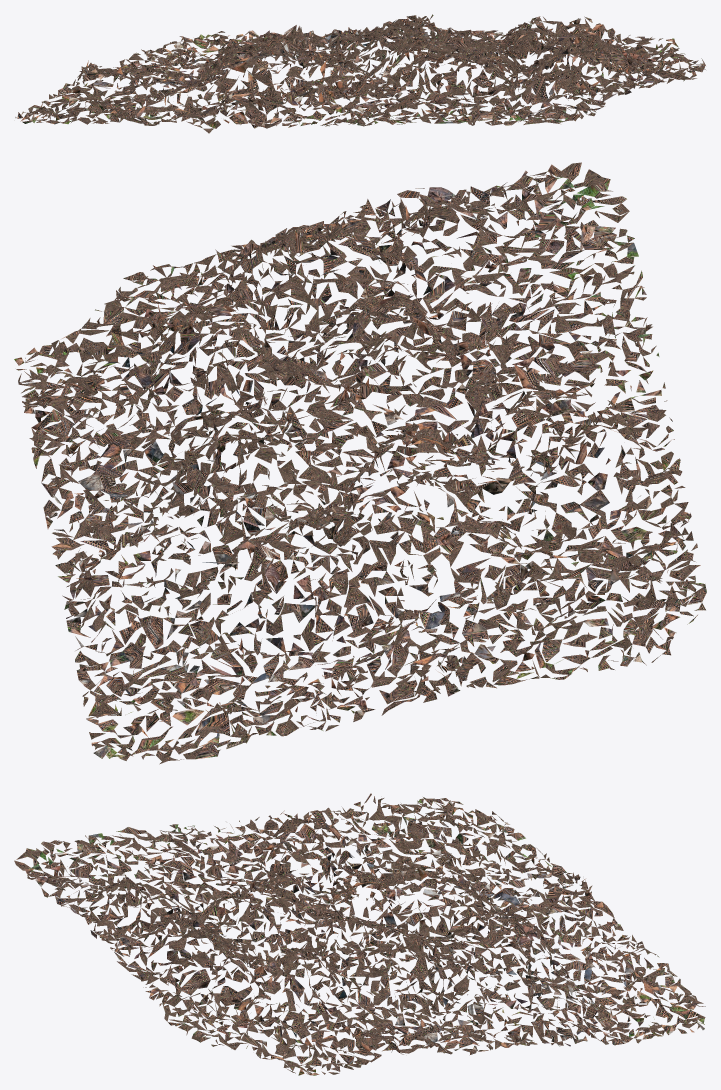
3 views of the same model, one above another, from view 1: azimuth 30°, elevation 25°; view 2: azimuth 150°, elevation 25°; view 3: azimuth 270°, elevation 25° (orthographic). The views are drawn at different scales.
Parts seen in each view (by area): view 1: Model; view 2: Model; view 3: Model.
Part boxes in pixels (x1,y1,x2,y2): Model: [15, 14, 705, 133]; Model: [14, 162, 706, 764]; Model: [14, 793, 705, 1075].
Bounding box in the file's own units: 18.08 × 5.33 × 19.45.
Materials: 3 (3 with a texture image).
